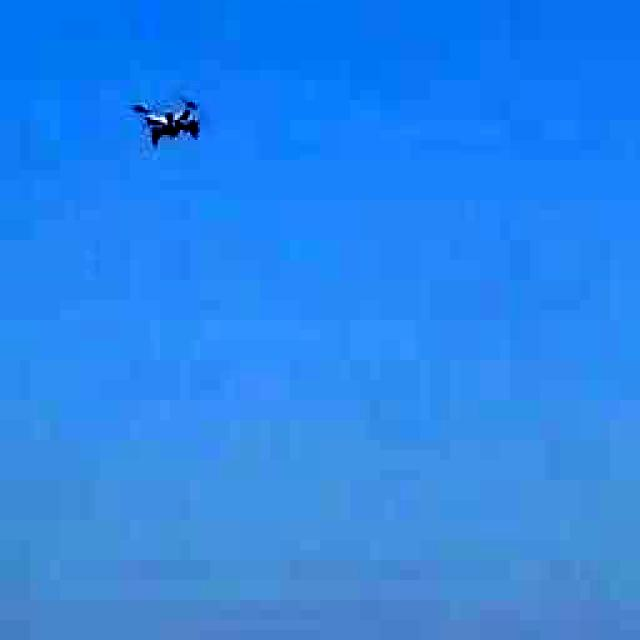bird: (110, 71, 228, 169)
